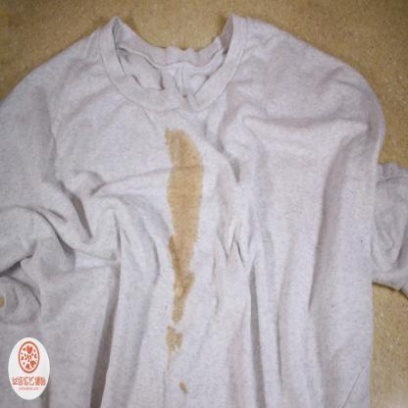coffee: (170, 132, 200, 239), (172, 242, 193, 317)
